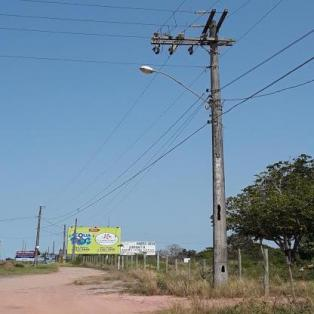Poste: (205, 16, 230, 290)
